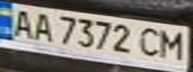2: (112, 20, 136, 55)
3: (72, 16, 96, 50)
7: (90, 18, 115, 52), (54, 12, 78, 46)
A: (6, 6, 39, 39), (27, 10, 57, 43)
C: (136, 25, 166, 58)
M: (157, 28, 187, 61)
